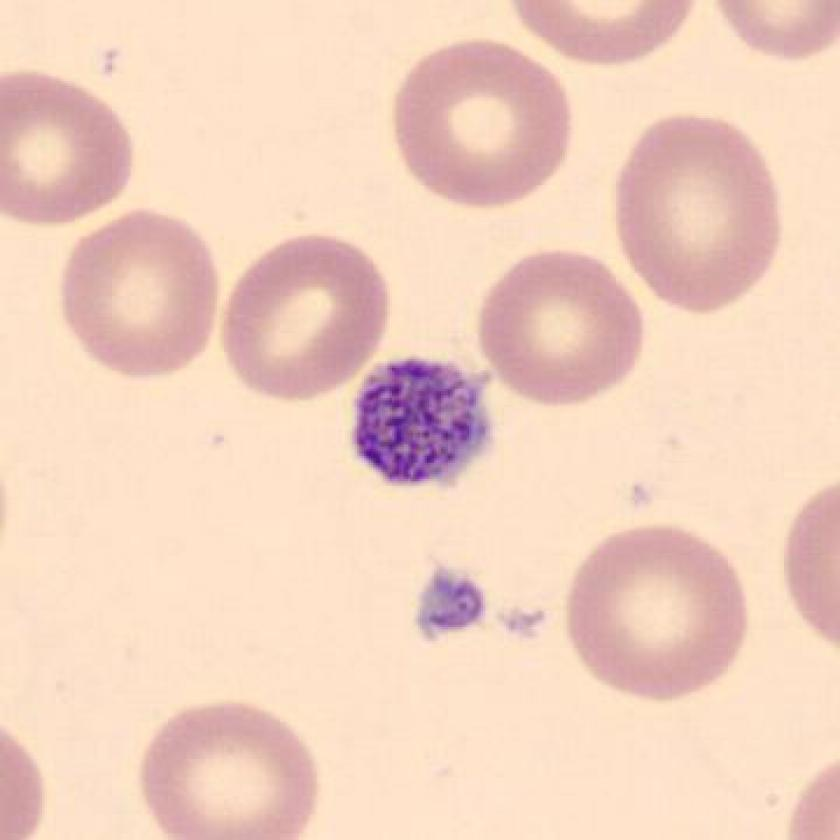platelets: (346, 357, 503, 494), (400, 559, 493, 649)
